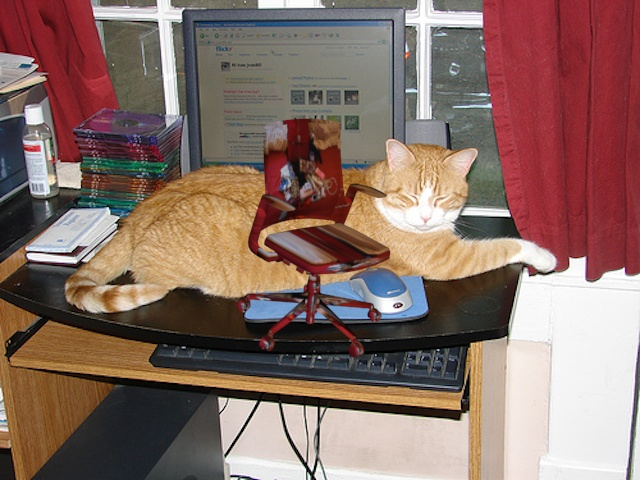desk_chair: (224, 112, 400, 369)
